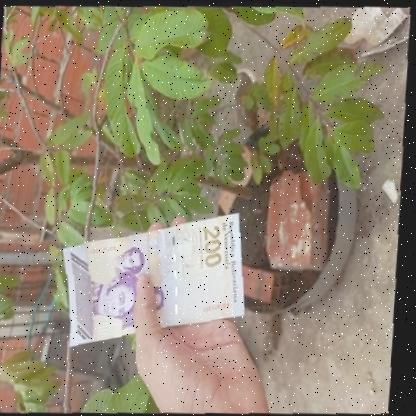two_hundred-front-vef: (58, 206, 256, 351)
